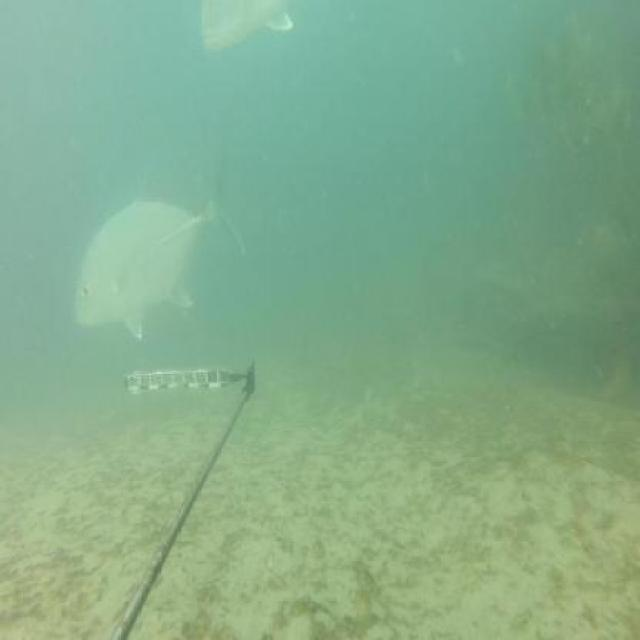Caranx: (74, 152, 252, 337), (191, 2, 304, 60)
